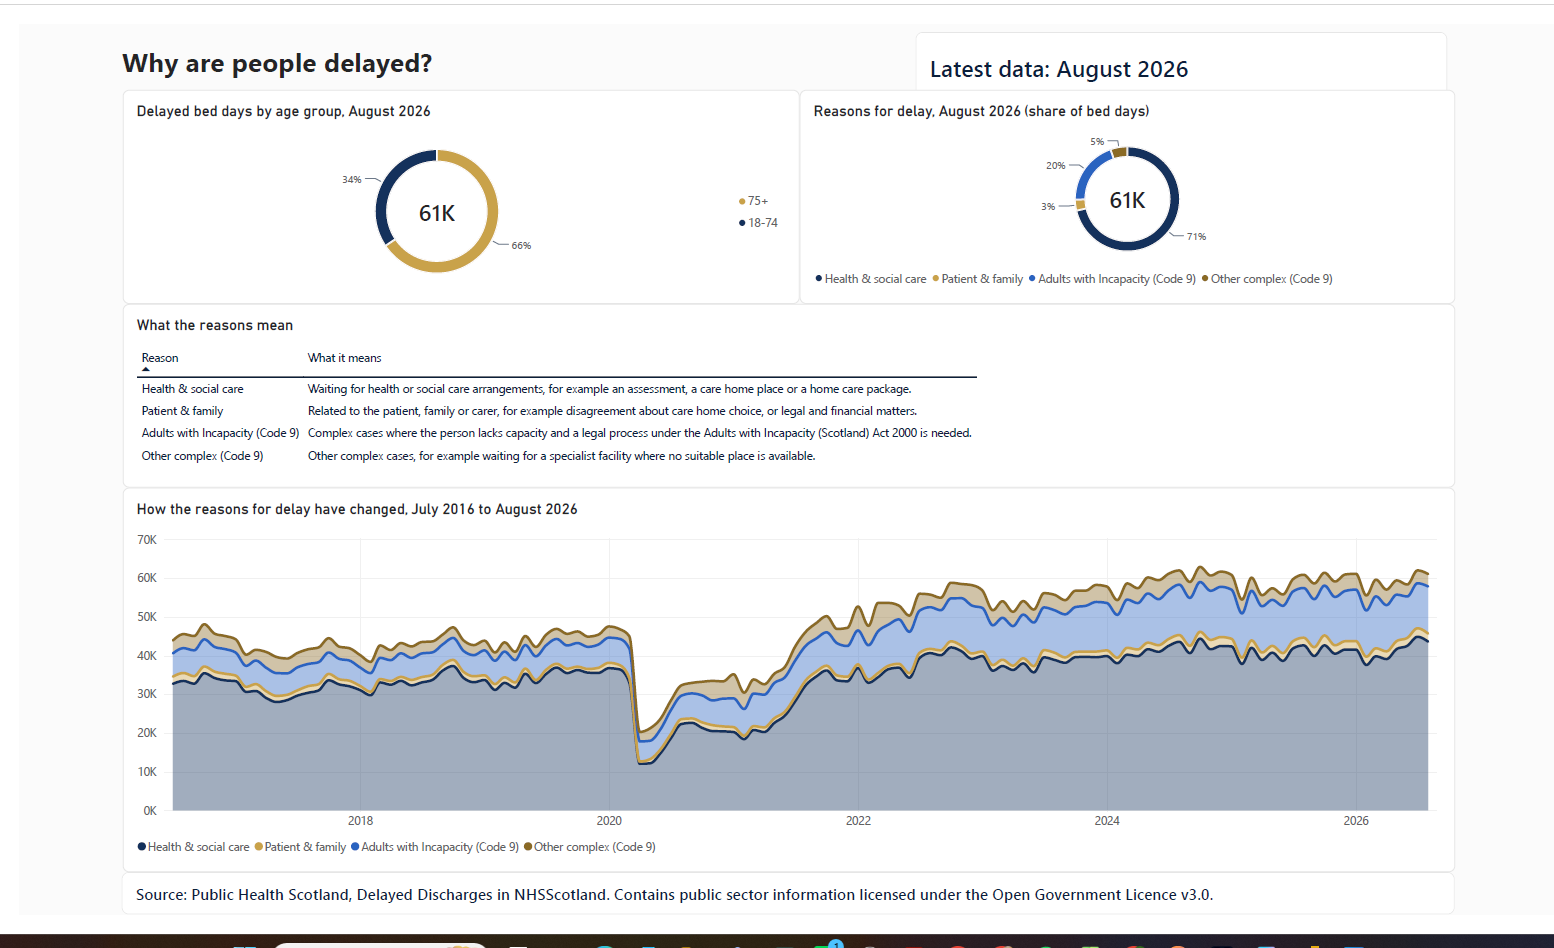

What the dashboard file says about the page in this screenshot:
{"tool":"powerbi","page":{"name":"Why are people delayed?","canvas":[1920,1080],"ordinal":2},"visuals":[{"type":"textbox","box":[123.9,21.5,663.9,70],"z":0},{"type":"cardVisual","fields":{"Data":["_Measures.Latest Month Label"]},"box":[1088.1,9.4,645,82.1],"z":1000},{"type":"cardVisual","fields":{"Data":["_Measures.Source Note"]},"box":[123.9,1028.8,1618.7,51.2],"z":2000},{"type":"donutChart","title":"Reasons for delay, August 2026 (share of bed days)","fields":{"Category":["dim_reason.ReasonShort"],"Y":["_Measures.Bed Days (Latest Month)"]},"box":[946.7,79.5,795.9,259.9],"z":3000},{"type":"donutChart","title":"Delayed bed days by age group, August 2026","fields":{"Category":["dim_age_group.AgeGroup"],"Y":["_Measures.Bed Days (Latest Month)"]},"box":[125.2,79.5,821.4,259.9],"z":4000},{"type":"stackedAreaChart","title":"How the reasons for delay have changed, July 2016 to August 2026","fields":{"Category":["dim_date.Date"],"Series":["dim_reason.ReasonShort"],"Y":["_Measures.Bed Days"]},"box":[125.2,561.5,1617.3,467.3],"z":5000},{"type":"tableEx","title":"What the reasons mean","fields":{"Values":["dim_reason.ReasonShort","dim_reason.Description"]},"box":[125.2,339.4,1617.3,222.2],"z":6000}]}

Visuals, with their boxes on the page's 1920x1080 design canvas (x1, y1, x2, y2). These are canvas units, not pixel positions in the 1554x948 screenshot, which may show the page scaled, cropped or inside an application window:
textbox: box=[124, 22, 788, 92]
cardVisual - _Measures.Latest Month Label: box=[1088, 9, 1733, 92]
cardVisual - _Measures.Source Note: box=[124, 1029, 1743, 1080]
"Reasons for delay, August 2026 (share of bed days)" donutChart: box=[947, 80, 1743, 339]
"Delayed bed days by age group, August 2026" donutChart: box=[125, 80, 947, 339]
"How the reasons for delay have changed, July 2016 to August 2026" stackedAreaChart: box=[125, 562, 1742, 1029]
"What the reasons mean" tableEx: box=[125, 339, 1742, 562]
